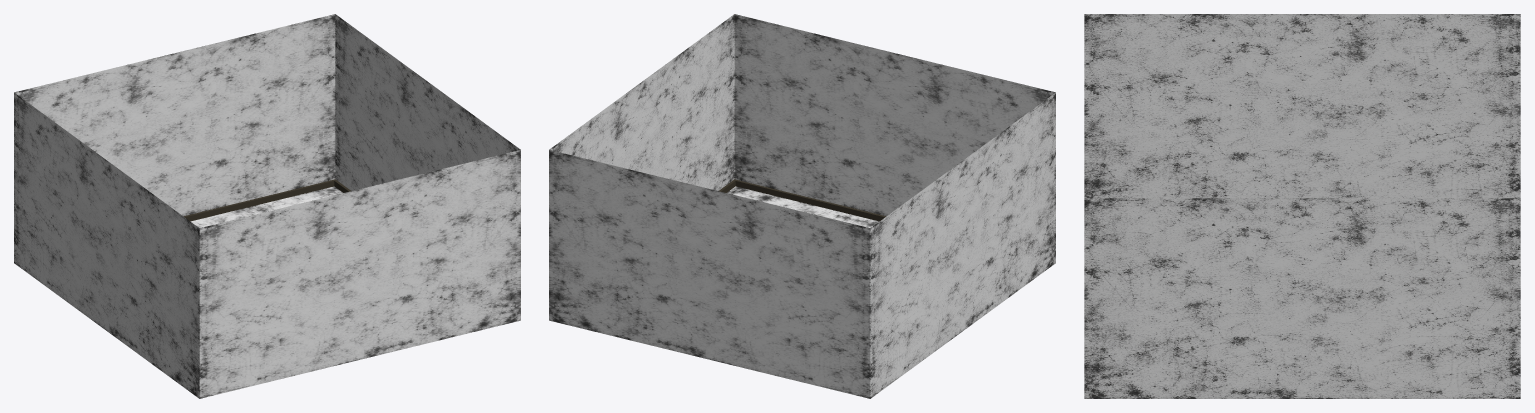
The model's file is Structure-room.glb.
3 views of the same model, side by side, from view 1: azimuth 30°, elevation 25°; view 2: azimuth 150°, elevation 25°; view 3: azimuth 270°, elevation 25° (orthographic). The views are drawn at different scales.
Visible parts, largest first — view 1: Pared-trasera, Pared-frente, Paredes-izquierda, Paredes-derecha, Piso, Socalos; view 2: Pared-frente, Pared-trasera, Paredes-izquierda, Paredes-derecha, Piso, Socalos; view 3: Paredes-derecha, Paredes-izquierda.
Boxes of the visible parts, bbox=[...] form: Pared-trasera: bbox=[199, 150, 520, 398]; Pared-frente: bbox=[14, 14, 335, 216]; Paredes-izquierda: bbox=[14, 92, 199, 398]; Paredes-derecha: bbox=[335, 14, 520, 190]; Piso: bbox=[190, 186, 342, 227]; Socalos: bbox=[184, 179, 350, 221]; Pared-frente: bbox=[549, 150, 870, 398]; Pared-trasera: bbox=[734, 14, 1055, 216]; Paredes-izquierda: bbox=[870, 92, 1055, 398]; Paredes-derecha: bbox=[549, 14, 734, 190]; Piso: bbox=[727, 186, 879, 227]; Socalos: bbox=[719, 179, 885, 221]; Paredes-derecha: bbox=[1084, 198, 1520, 398]; Paredes-izquierda: bbox=[1084, 14, 1520, 198].
Size of the model in its own units: 5 by 2.54 by 5.
Materials: 4 (3 with a texture image).
